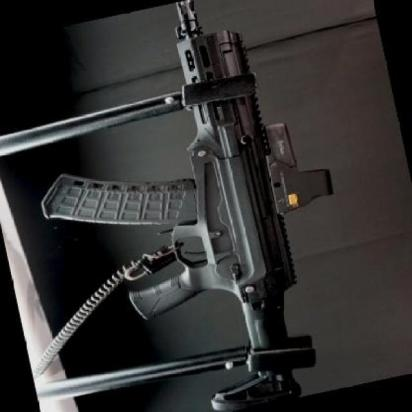Gun: (4, 0, 384, 412)
